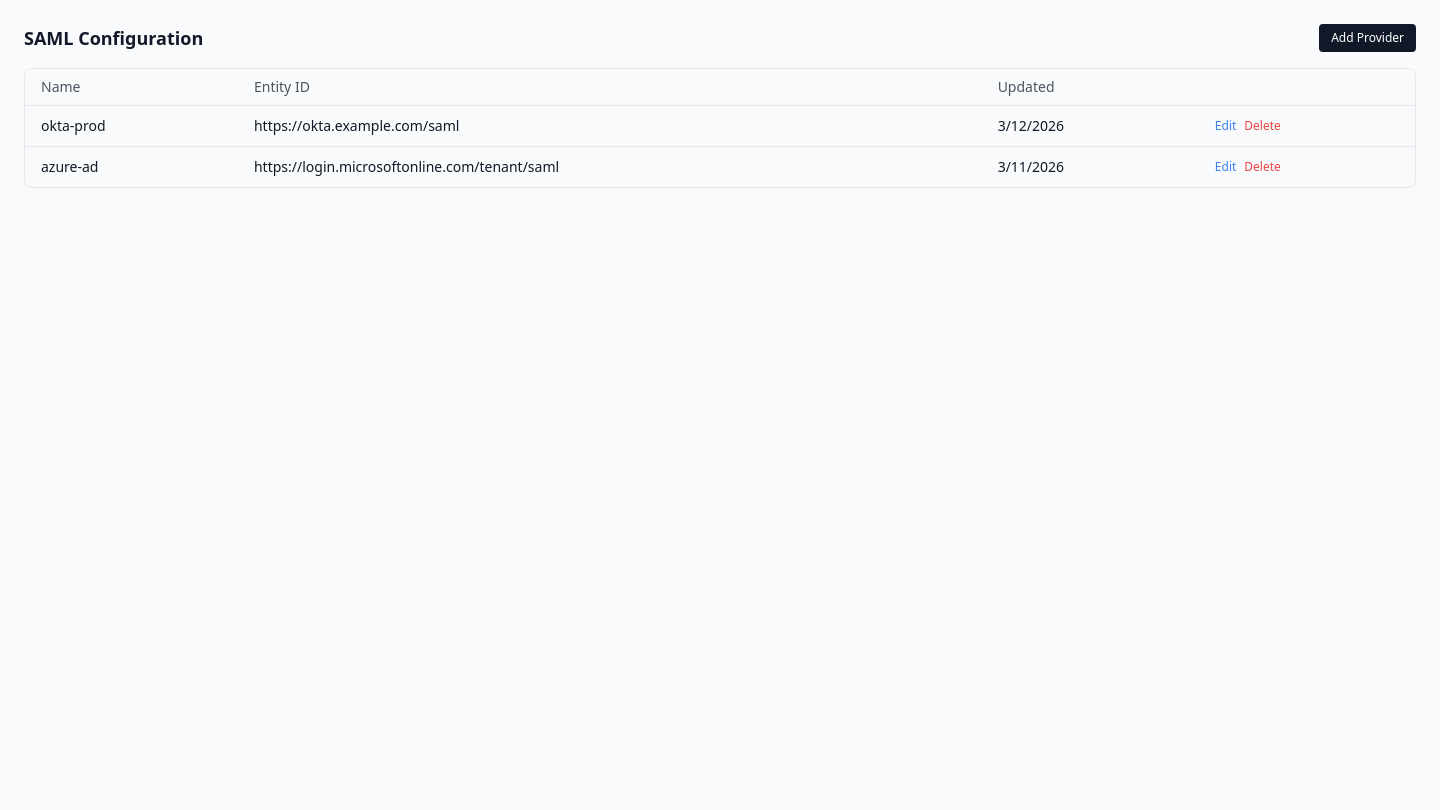
Test: SAMLConfig › validates required name and entity_id in create form
The image size is (1440, 810).
Check: the text "okta-prod" is shown, box [25,106,238,146]
Click the button "Add Provider": (1368, 38) [1319,24,1416,52]
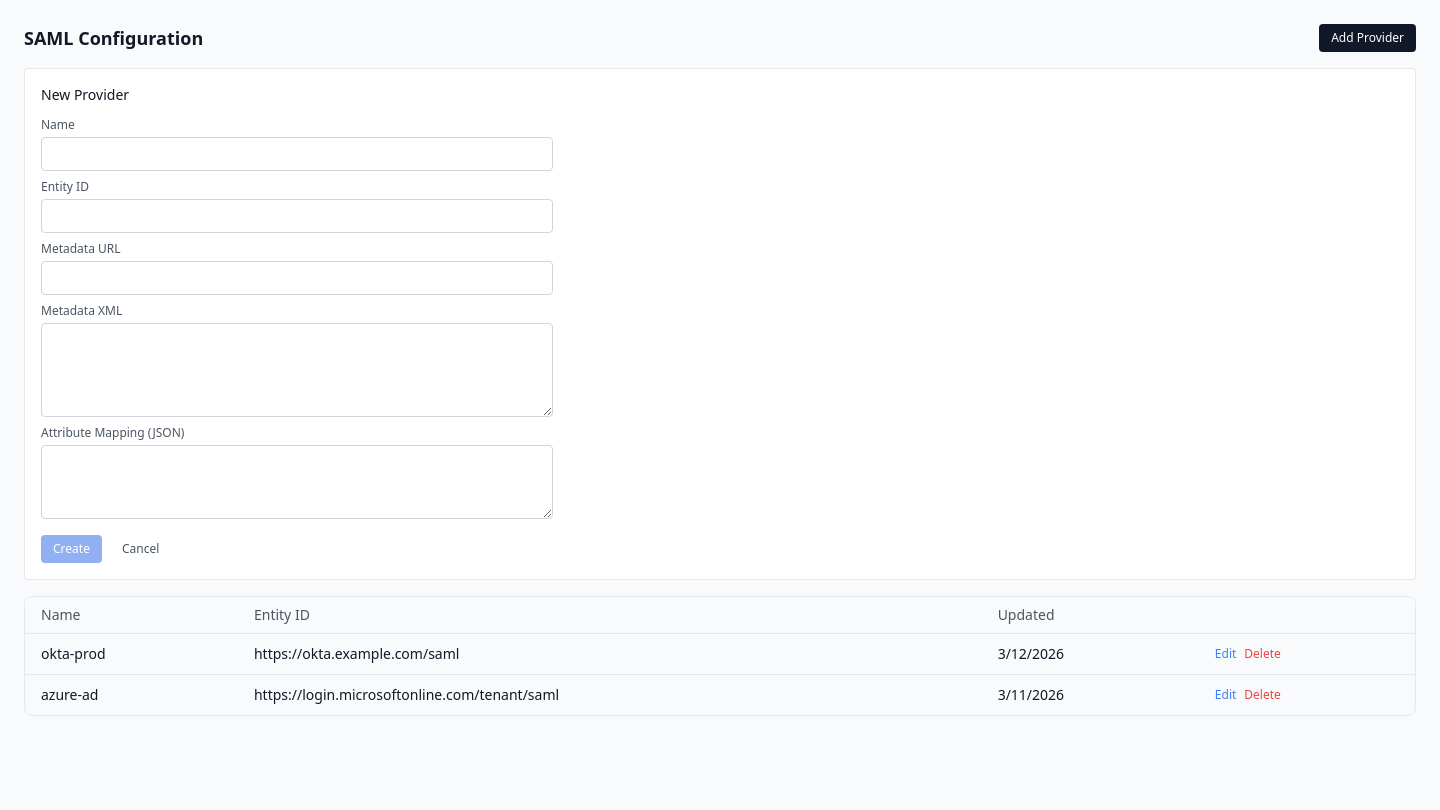
Check: the button "Create" is disabled, box [41,535,102,563]
